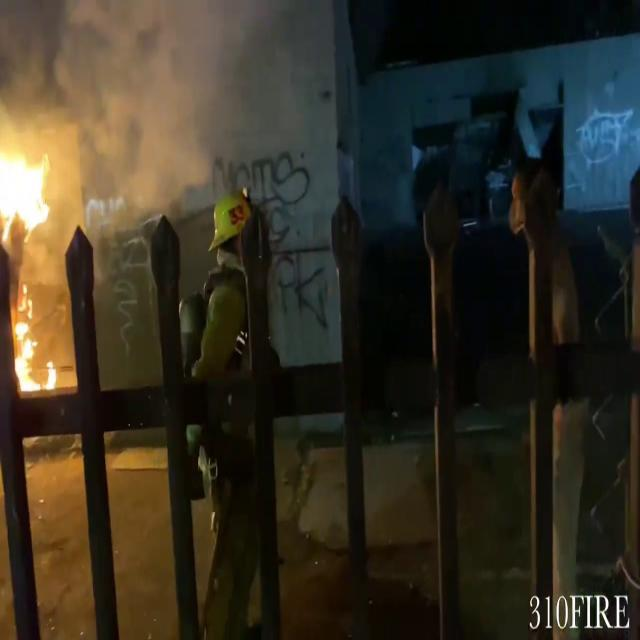Fire: (0, 137, 55, 245), (10, 278, 59, 396)
